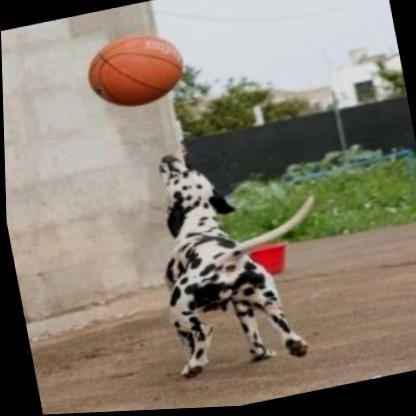basketball: (72, 22, 194, 119)
